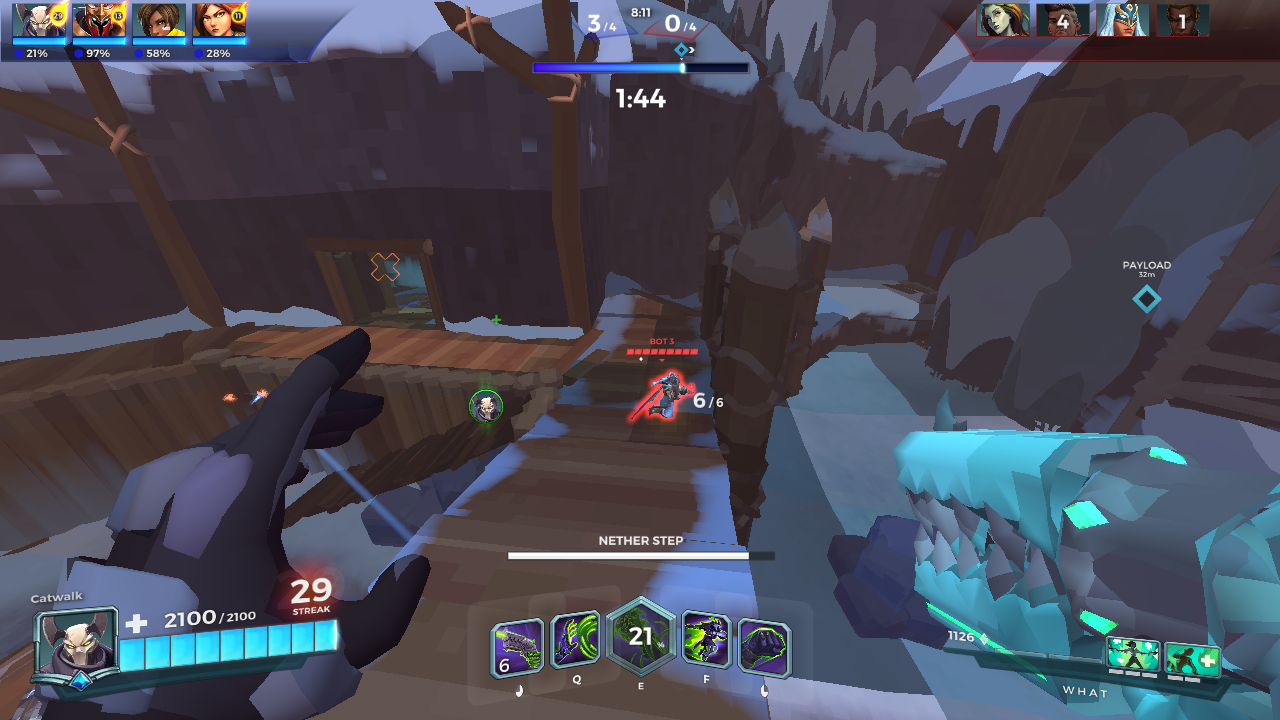model: (646, 365, 687, 430)
